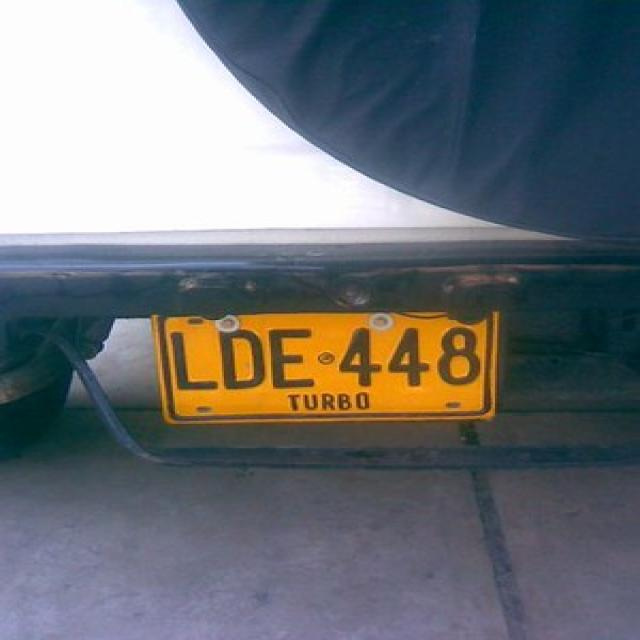placa_carro: (149, 306, 503, 427)
